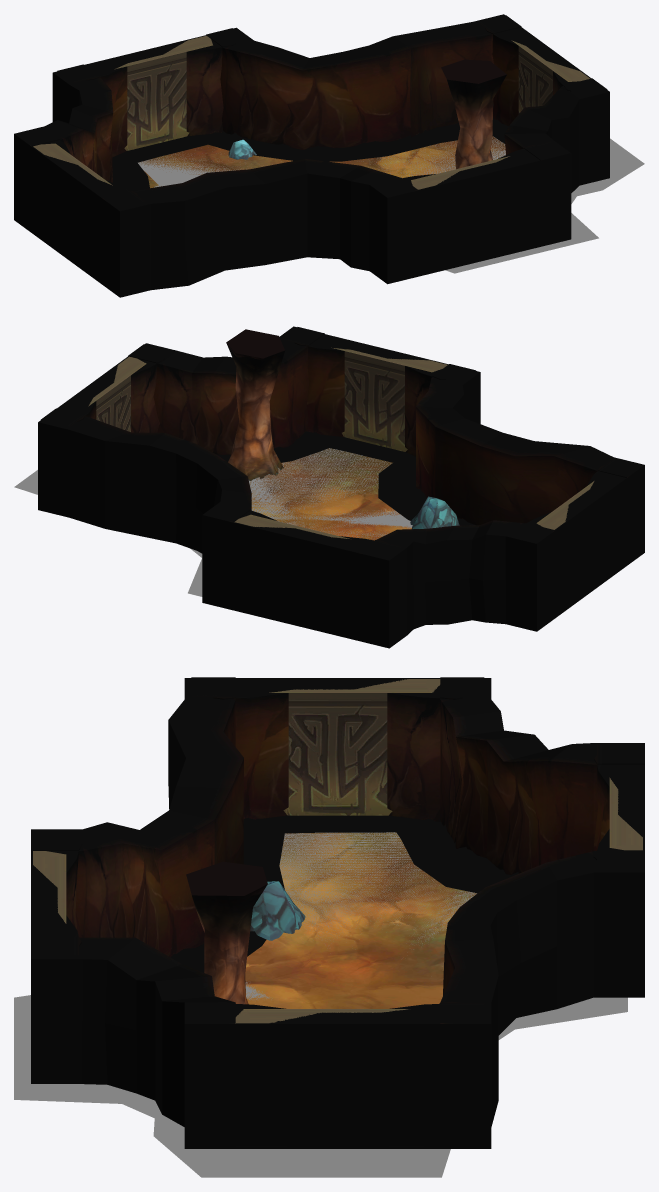
Rendered from Dungeon_011_RoadX_001.fbx.
3 renders of one model, top to bottom at view 1: azimuth 30°, elevation 25°; view 2: azimuth 150°, elevation 25°; view 3: azimuth 270°, elevation 25°, orthographic. The views are drawn at different scales.
Visible parts, largest first — view 1: Dan1, Dun_011_Door_002_old (×4), Dun_011_Door_003_WarpRoom (×4), Dun_011_Door_002 (×2), Dan1_shadow, Radar, Dan002_02, Dungeon_011_Object_010, Dun_011_Door_002_shadow; view 2: Dan1, Dun_011_Door_002_old (×4), Dun_011_Door_003_WarpRoom (×4), Dan002_02, Dun_011_Door_002 (×2), Radar, Dungeon_011_Object_010, Dan1_shadow, Dungeon_011_Object_012, Dun_011_Door_002_shadow; view 3: Dan1, Dun_011_Door_002_old (×4), Dan002_02, Radar, Dun_011_Door_002 (×3), Dun_011_Door_003_WarpRoom (×4), Dan1_shadow, Dungeon_011_Object_010, Dungeon_011_Object_012, Dun_011_Door_002_shadow.
Boxes of the visible parts, x1,y1,x2,y2 form: Dan1: [14, 14, 609, 297]; Dun_011_Door_002_old (×4): [17, 15, 607, 283]; Dun_011_Door_003_WarpRoom (×4): [33, 35, 590, 189]; Dun_011_Door_002 (×2): [31, 128, 563, 284]; Dan1_shadow: [112, 118, 508, 190]; Radar: [138, 136, 644, 273]; Dan002_02: [139, 136, 505, 188]; Dungeon_011_Object_010: [441, 59, 506, 169]; Dun_011_Door_002_shadow: [126, 136, 207, 162]; Dan1: [38, 326, 644, 648]; Dun_011_Door_002_old (×4): [41, 327, 641, 639]; Dun_011_Door_003_WarpRoom (×4): [88, 347, 594, 538]; Dan002_02: [250, 448, 411, 540]; Dun_011_Door_002 (×2): [224, 459, 641, 640]; Radar: [14, 448, 412, 596]; Dungeon_011_Object_010: [226, 329, 284, 480]; Dan1_shadow: [217, 431, 475, 525]; Dungeon_011_Object_012: [410, 496, 459, 529]; Dun_011_Door_002_shadow: [330, 438, 405, 462]; Dan1: [31, 678, 644, 1148]; Dun_011_Door_002_old (×4): [31, 677, 644, 1147]; Dan002_02: [245, 832, 476, 1008]; Radar: [14, 832, 627, 1177]; Dun_011_Door_002 (×3): [31, 677, 482, 1148]; Dun_011_Door_003_WarpRoom (×4): [33, 679, 642, 1023]; Dan1_shadow: [171, 815, 518, 1146]; Dungeon_011_Object_010: [186, 861, 267, 1004]; Dungeon_011_Object_012: [250, 881, 305, 940]; Dun_011_Door_002_shadow: [285, 815, 395, 833].
Size of what is drawn, in the model's own units: 13 by 2.96 by 9.25.
